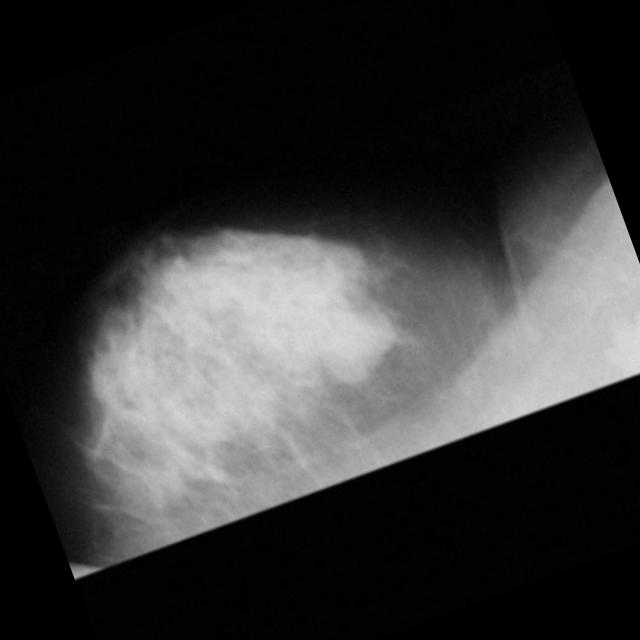CIRC: (321, 294, 404, 376)
